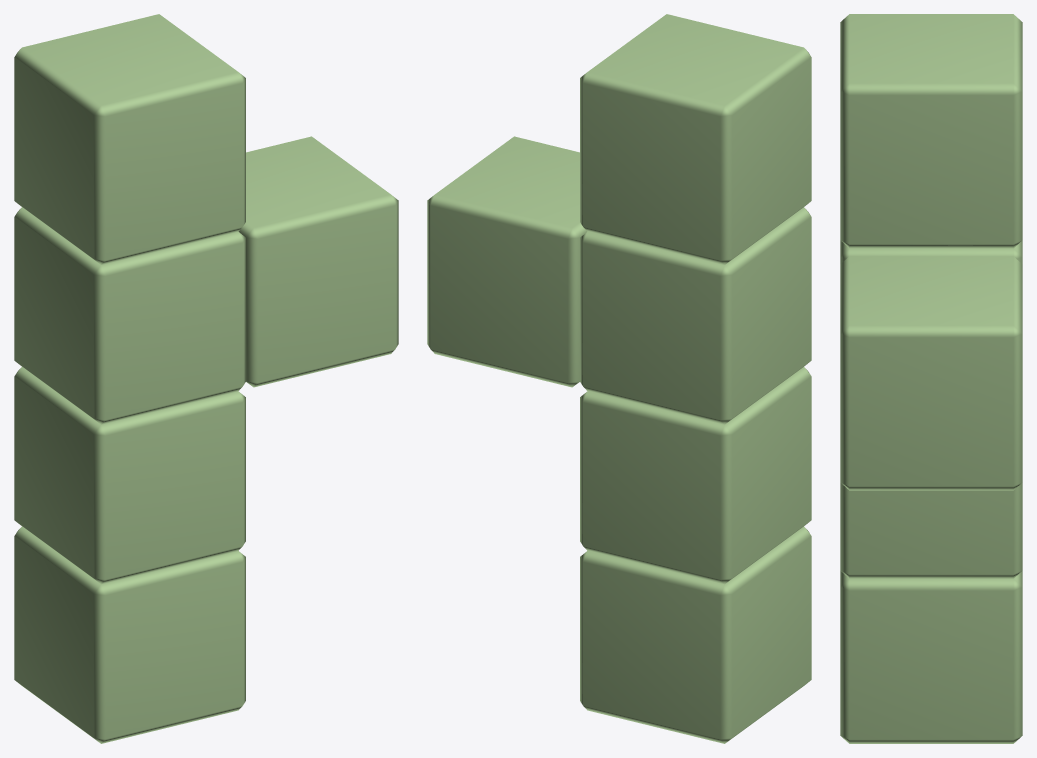
File: FinEarth5.fbx
The picture shows the model from 3 angles, left to right: view 1: azimuth 30°, elevation 25°; view 2: azimuth 150°, elevation 25°; view 3: azimuth 270°, elevation 25°; orthographic projection. The views are drawn at different scales.
Visible parts, largest first — view 1: geo1; view 2: geo1; view 3: geo1.
Part boxes in pixels (x1=…): geo1: x1=14, y1=14, x2=398, y2=743; geo1: x1=427, y1=14, x2=811, y2=743; geo1: x1=840, y1=14, x2=1022, y2=743.
Size of the model in its own units: 2 by 4 by 1.
